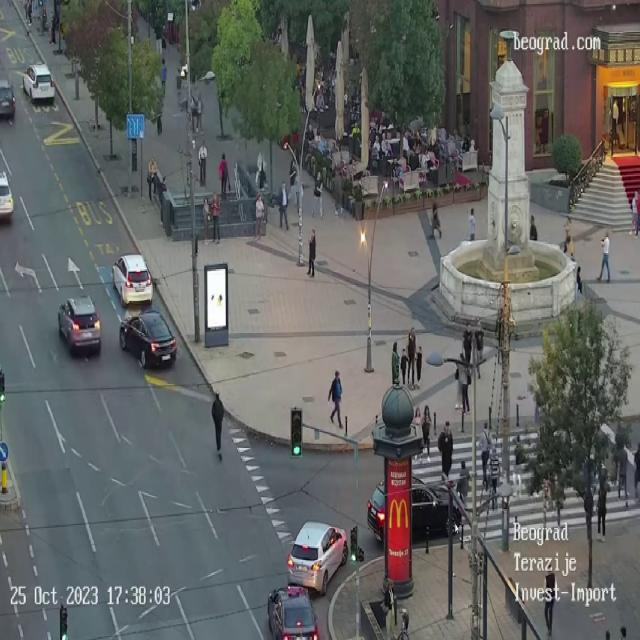car: (366, 473, 462, 543), (286, 520, 348, 596), (118, 308, 177, 369), (58, 294, 101, 355), (269, 585, 316, 640), (111, 253, 152, 306), (22, 63, 55, 104), (0, 80, 16, 121), (0, 171, 11, 219)
